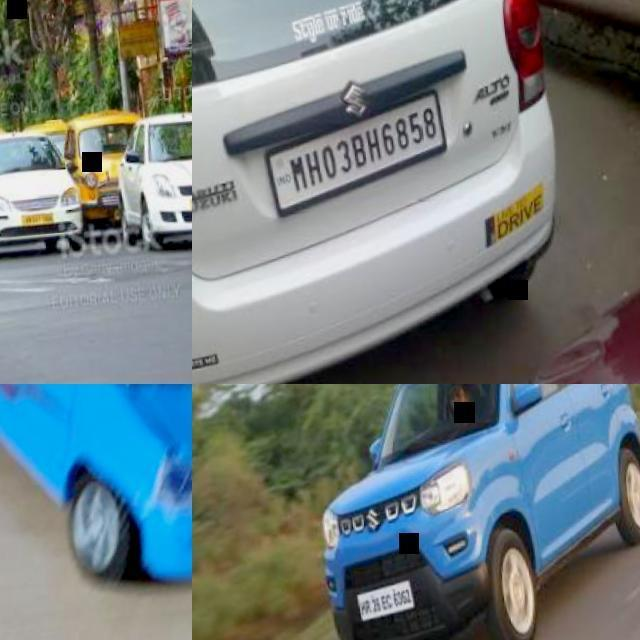car: (320, 384, 639, 639), (1, 130, 86, 255), (545, 0, 638, 111), (119, 113, 192, 253)
